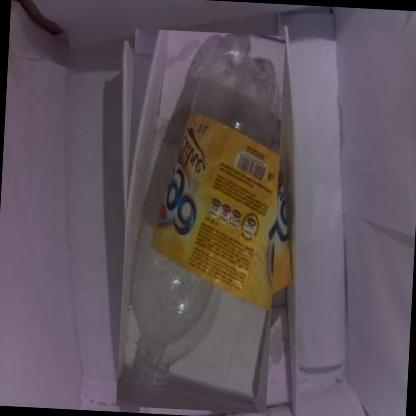plastic_bottles: (116, 28, 286, 413)
